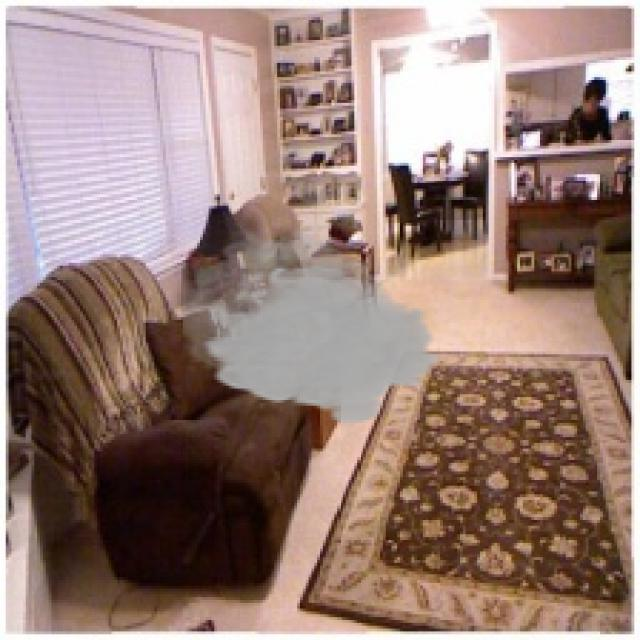Smoke: (183, 223, 443, 426)
